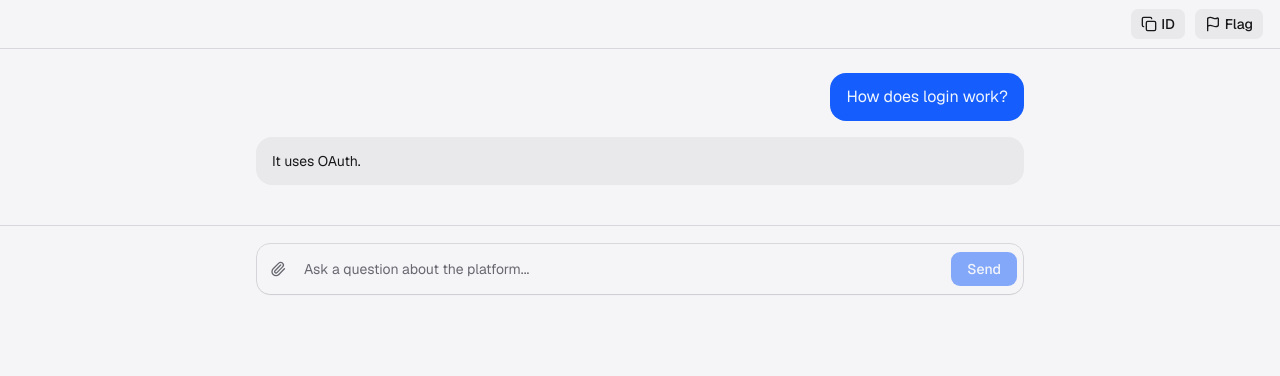
Test case: ChatThread › sending posts the message to /api/chat and streams the answer back
Check: the text "It uses OAuth." is shown, box [272,152,361,170]
Type "Why?" into the text box named "message". click: (622,269)
box: [294,251,950,287]
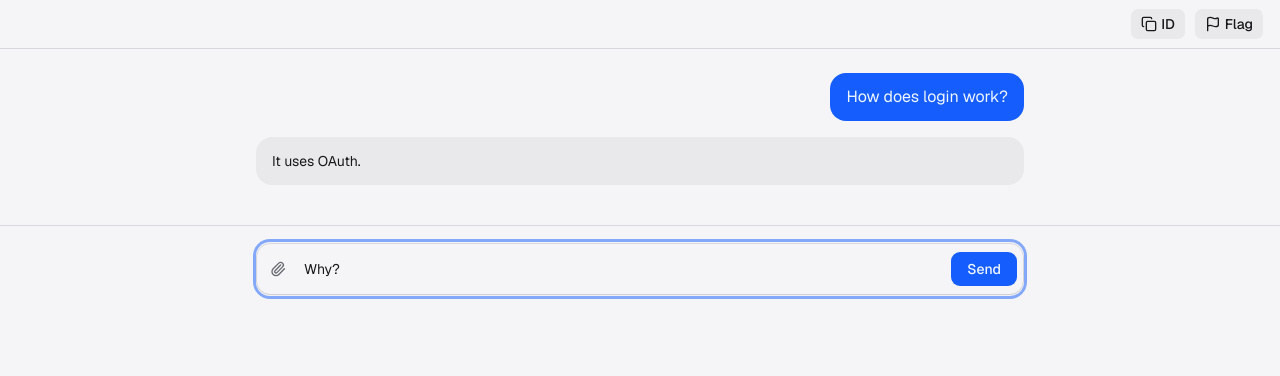
Click the button "Send". click: (984,269)
box: [950,251,1018,287]
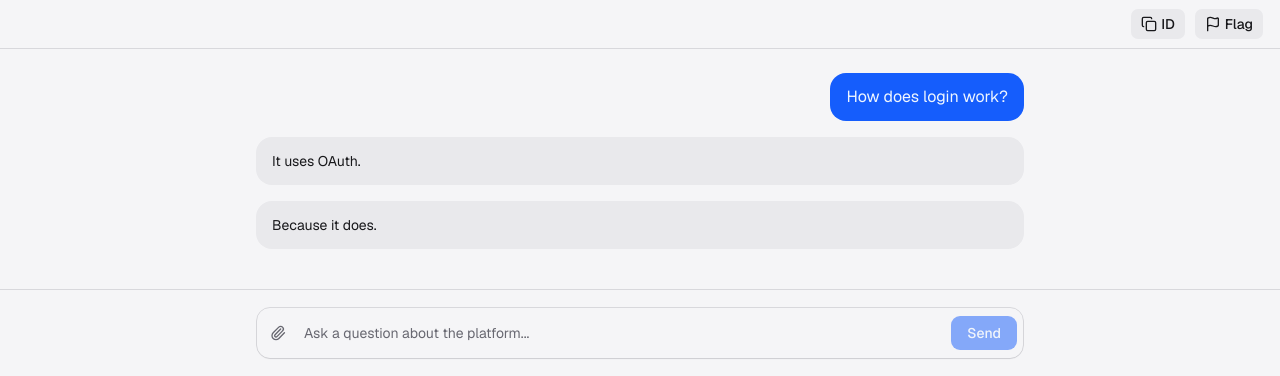
Check: the text "Because it does." is shown, box [272,216,377,234]
